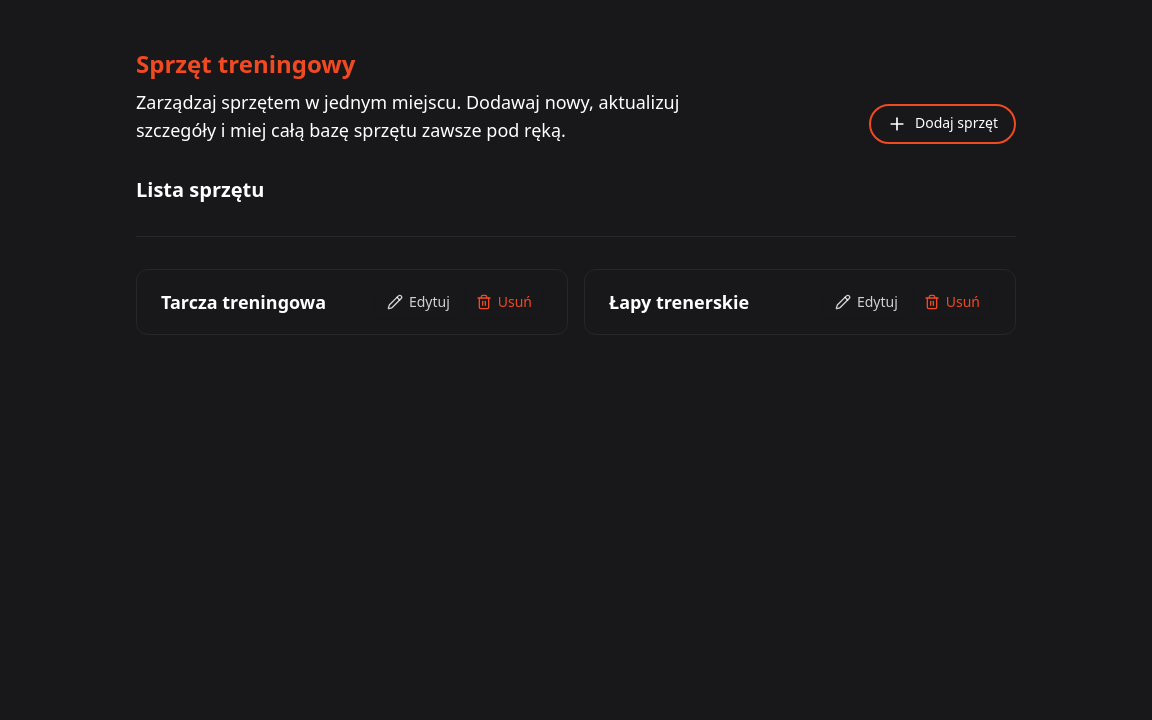
Scenario: EquipmentListPage › opens an empty create dialog
Click the button "Dodaj sprzęt" at {"x": 942, "y": 124}, box [869,104,1016,144]
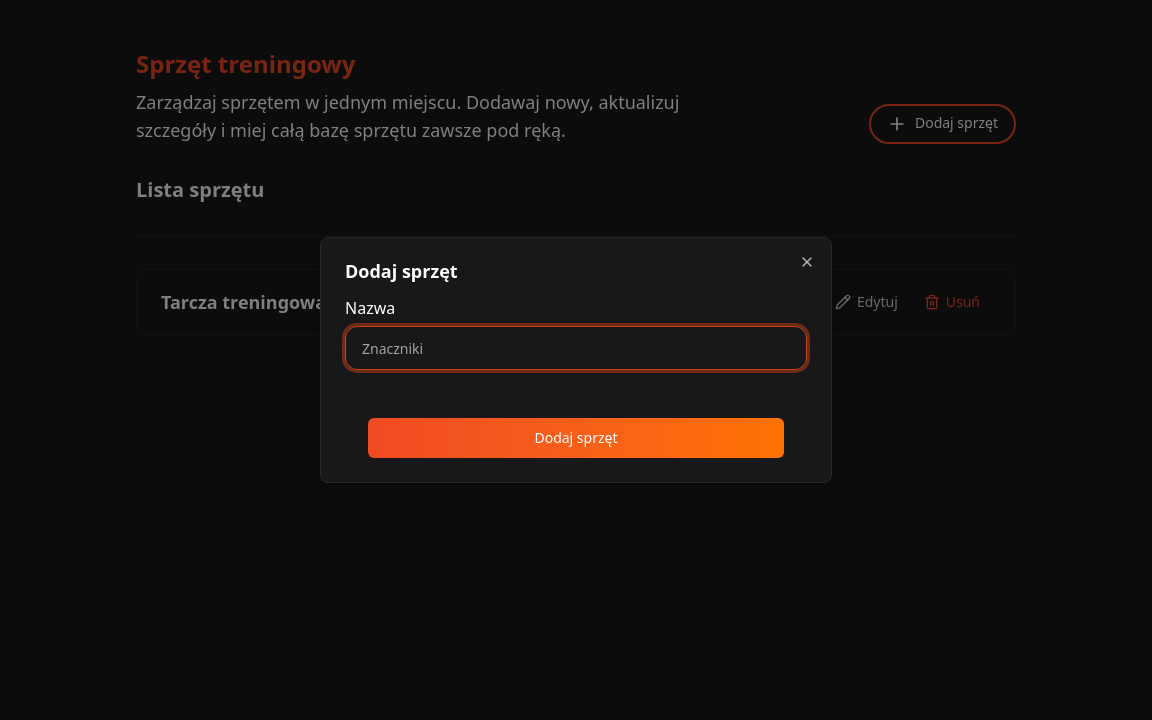
expect the dialog is shown: met, box [320,237,832,483]
expect the heading "Dodaj sprzęt" is shown: met, box [345,259,458,283]
expect the field labelled "Nazwa" is empty: met, box [345,326,807,370]
